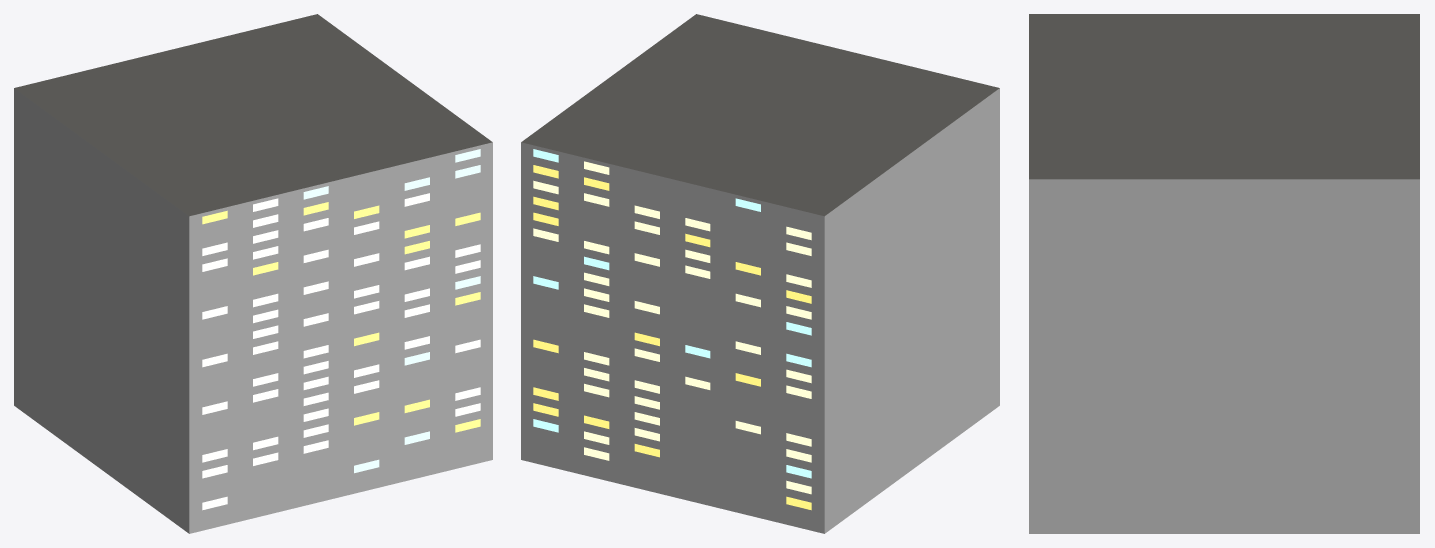
The model's file is city-block-lit-20.glb.
3 views of the same model, side by side, from view 1: azimuth 30°, elevation 25°; view 2: azimuth 150°, elevation 25°; view 3: azimuth 270°, elevation 25° (orthographic). The views are drawn at different scales.
Visible parts, largest first — view 1: city_block, window warm, window amber, window tv; view 2: city_block, window warm, window amber, window tv; view 3: city_block.
Boxes of the visible parts, left/top/right/bottom form: city_block: left=14, top=14, right=492, bottom=533; window warm: left=202, top=193, right=480, bottom=510; window amber: left=202, top=202, right=480, bottom=432; window tv: left=303, top=149, right=480, bottom=473; city_block: left=521, top=14, right=999, bottom=533; window warm: left=533, top=161, right=811, bottom=494; window amber: left=533, top=165, right=811, bottom=510; window tv: left=533, top=149, right=811, bottom=478; city_block: left=1029, top=14, right=1419, bottom=533.
Bounding box in the file's own units: 1 × 1 × 1.
